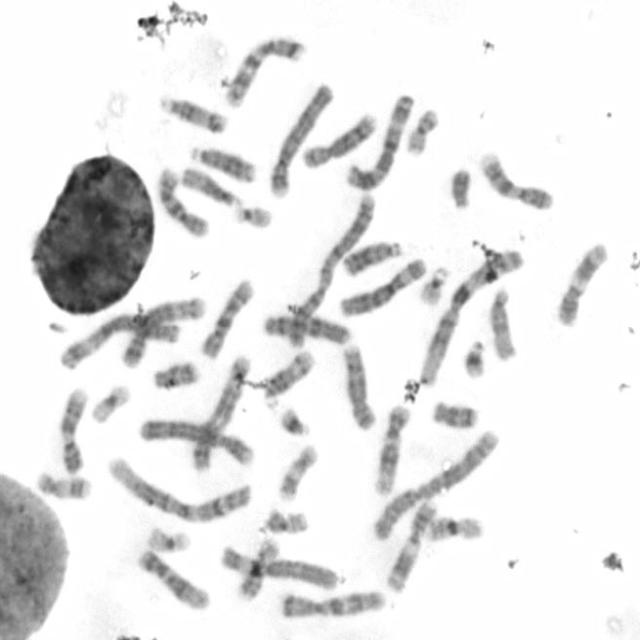A1: (415, 244, 525, 391), (103, 452, 251, 525)
A2: (368, 425, 502, 543), (282, 190, 378, 350)
A3: (55, 308, 182, 372), (343, 90, 416, 192)
B4: (266, 78, 335, 198), (136, 414, 256, 467)
B5: (187, 350, 252, 473), (117, 292, 207, 370)
C10: (195, 274, 256, 360), (152, 162, 212, 239)
C11: (381, 495, 439, 595), (552, 238, 610, 328)
C12: (134, 545, 211, 612), (370, 402, 412, 497)
C6: (215, 542, 339, 592), (334, 253, 429, 318)
C7: (220, 30, 308, 110), (275, 584, 386, 621)
C8: (298, 109, 379, 171), (339, 341, 378, 432)
C9: (474, 147, 555, 213), (56, 384, 90, 475)
D13: (187, 142, 258, 185), (338, 235, 404, 278)
D14: (259, 345, 316, 412), (154, 90, 229, 136)
D15: (178, 162, 243, 208), (486, 284, 518, 362)
E16: (232, 535, 282, 601), (422, 511, 486, 544)
E17: (274, 441, 320, 502), (32, 468, 94, 502)
E18: (427, 396, 479, 431), (150, 357, 200, 392)
F19: (87, 380, 131, 425), (142, 523, 194, 554)
F20: (402, 106, 442, 158), (260, 504, 311, 534)
G21: (274, 402, 312, 438), (460, 334, 488, 381)
G22: (416, 261, 452, 308), (230, 201, 274, 231)
X: (259, 309, 353, 346)
Y: (446, 164, 474, 211)
